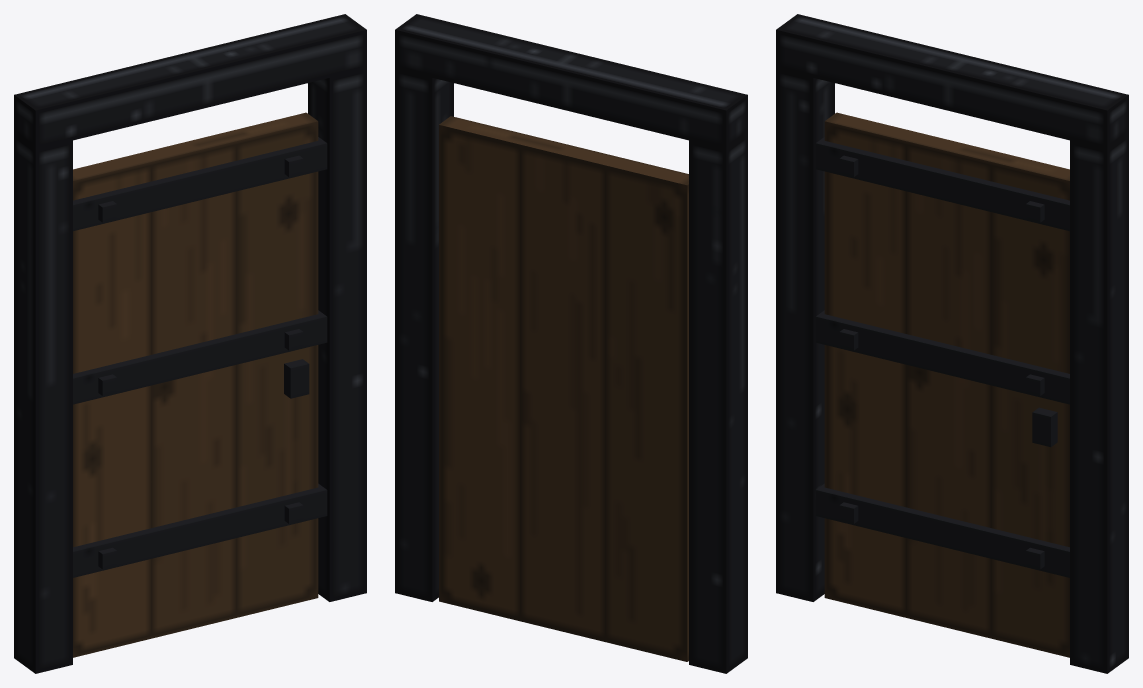
Rendered from DoorIronband.obj.
The picture shows the model from 3 angles, left to right: view 1: azimuth 30°, elevation 25°; view 2: azimuth 150°, elevation 25°; view 3: azimuth 330°, elevation 25°; orthographic projection.
Visible parts, largest first — view 1: DoorIronband; view 2: DoorIronband; view 3: DoorIronband.
Part boxes in pixels (x1,y1,x2,y2): DoorIronband: (14, 14, 366, 673); DoorIronband: (395, 14, 747, 673); DoorIronband: (776, 14, 1128, 673).
Size of the model in its own units: 1.6 by 2.6 by 0.195.
1 material, 1 textured.
